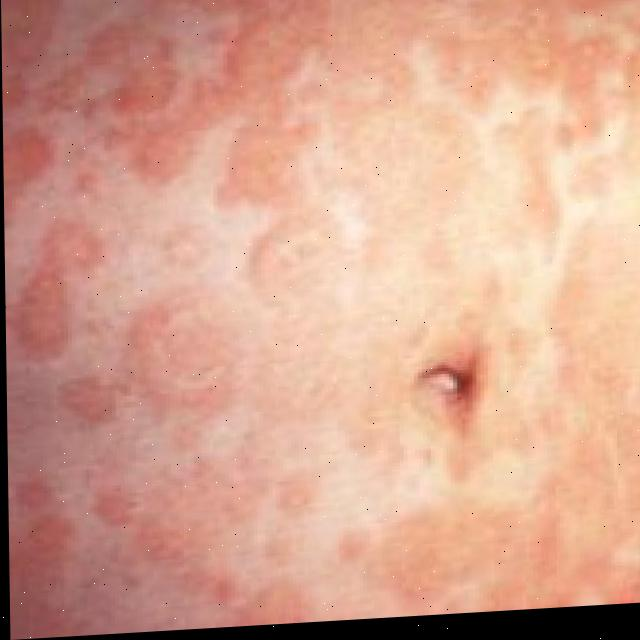Rosacea: (63, 0, 605, 594)
